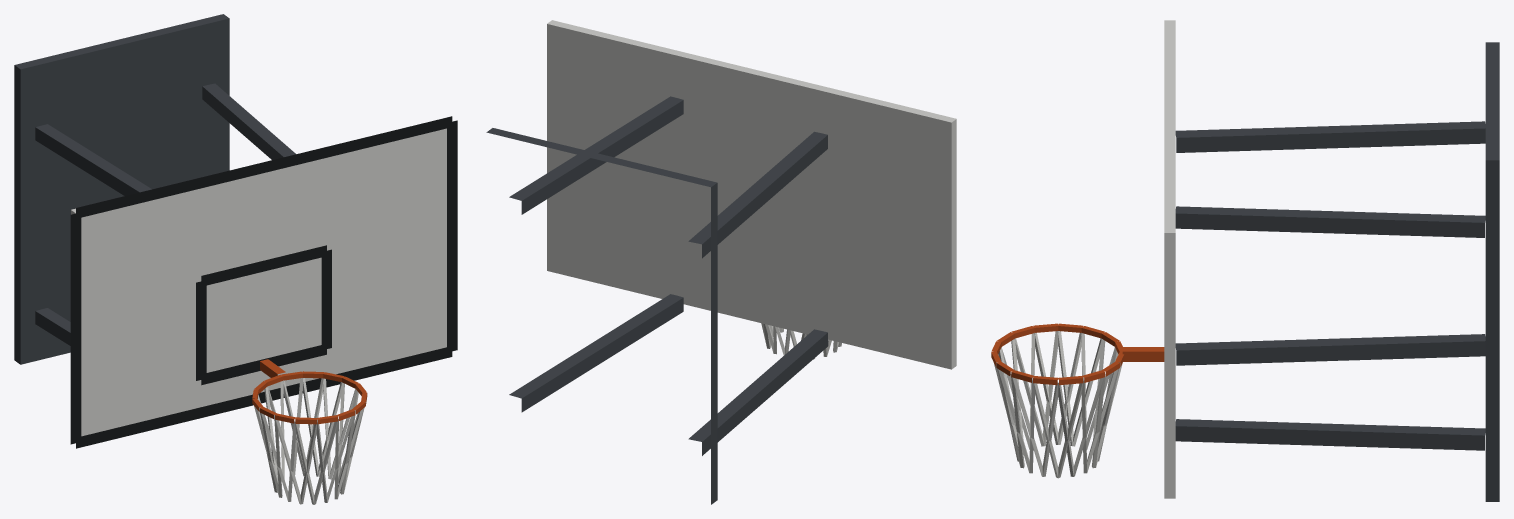
Rendered from sport.hoop_wall.white.glb.
3 renders of one model, left to right at view 1: azimuth 30°, elevation 25°; view 2: azimuth 150°, elevation 25°; view 3: azimuth 270°, elevation 25°, orthographic. The views are drawn at different scales.
Visible parts, largest first — view 1: sport_hoop_wall_white; view 2: sport_hoop_wall_white; view 3: sport_hoop_wall_white.
Boxes of the visible parts, x1,y1,x2,y2 form: sport_hoop_wall_white: (14,14,457,504); sport_hoop_wall_white: (486,20,956,504); sport_hoop_wall_white: (991,20,1499,501).
Size of what is drawn, in the model's own units: 1.85 by 1.42 by 1.82.
